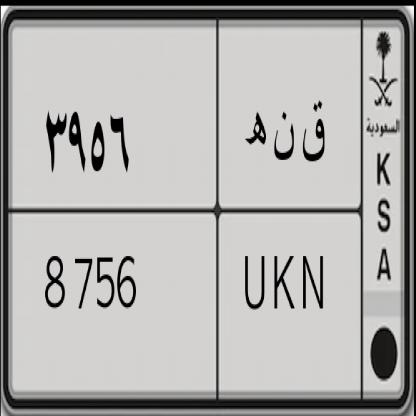english: (4, 199, 365, 416)
